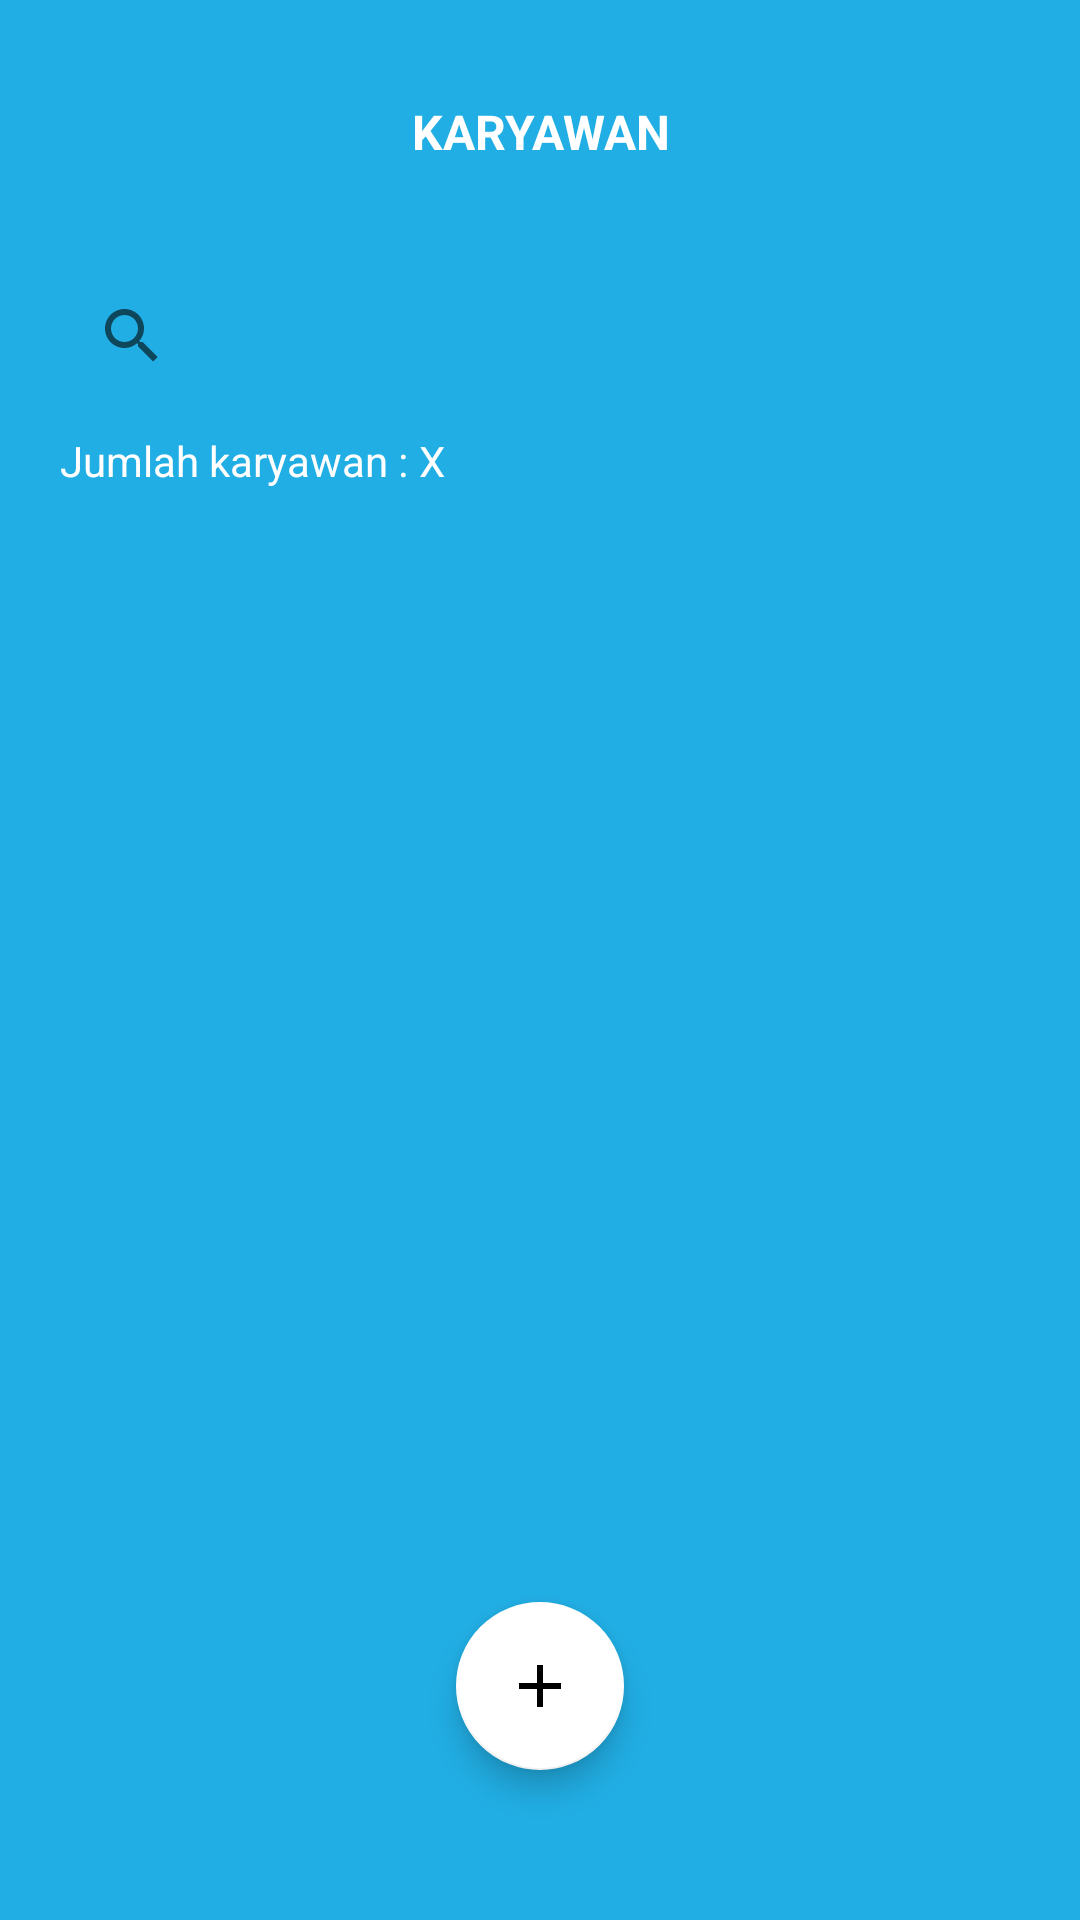

Named icons in this screenshot (1080×1920) and their bounding boxes, (x1, y1, x2, y2):
add: (456, 1602, 624, 1770)
